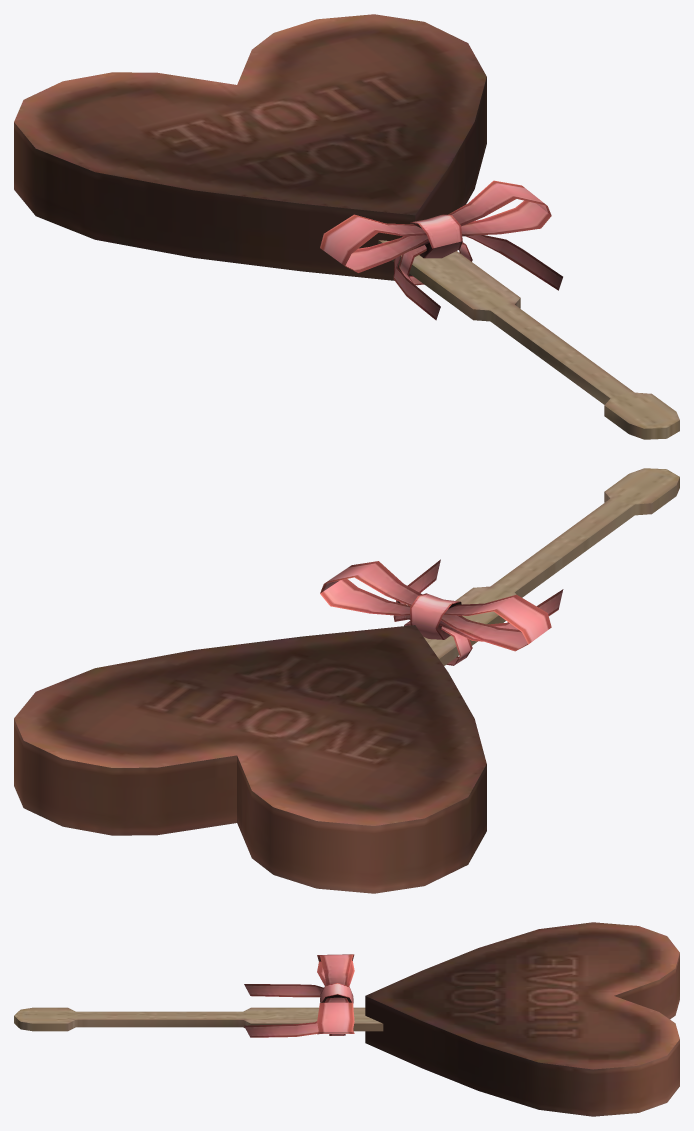
File: wand_s_chocoheart_wand_s_choco_heart.glb
3 views of the same model, one above another, from view 1: azimuth 30°, elevation 25°; view 2: azimuth 150°, elevation 25°; view 3: azimuth 270°, elevation 25° (orthographic). The views are drawn at different scales.
Size of the model in its own units: 0.5327 by 0.1081 by 1.02.
3 materials, 3 textured.
